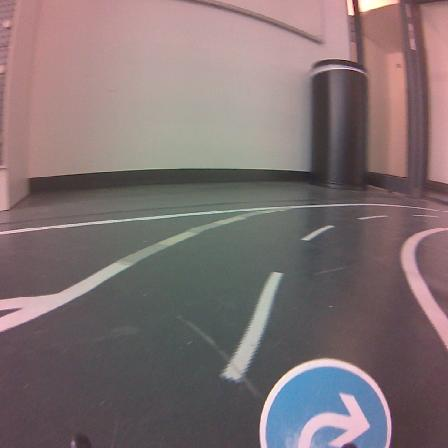RIGHT_TURN: (260, 359, 390, 447)
